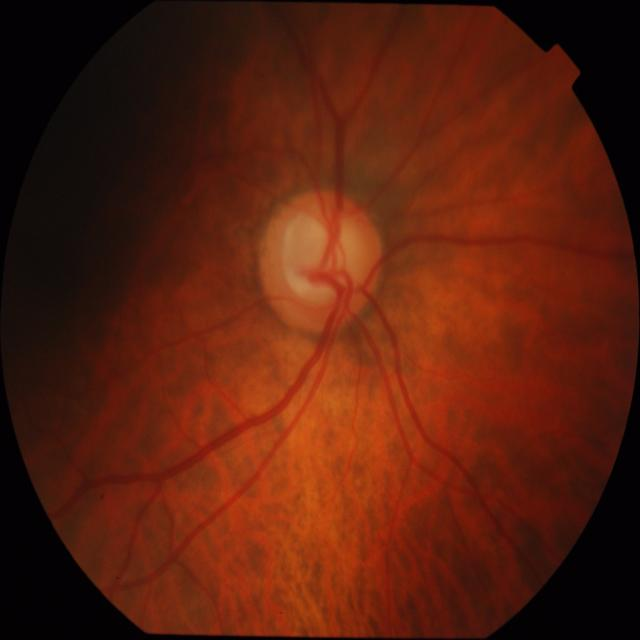OC: (278, 200, 368, 310)
OD: (258, 187, 382, 334)
